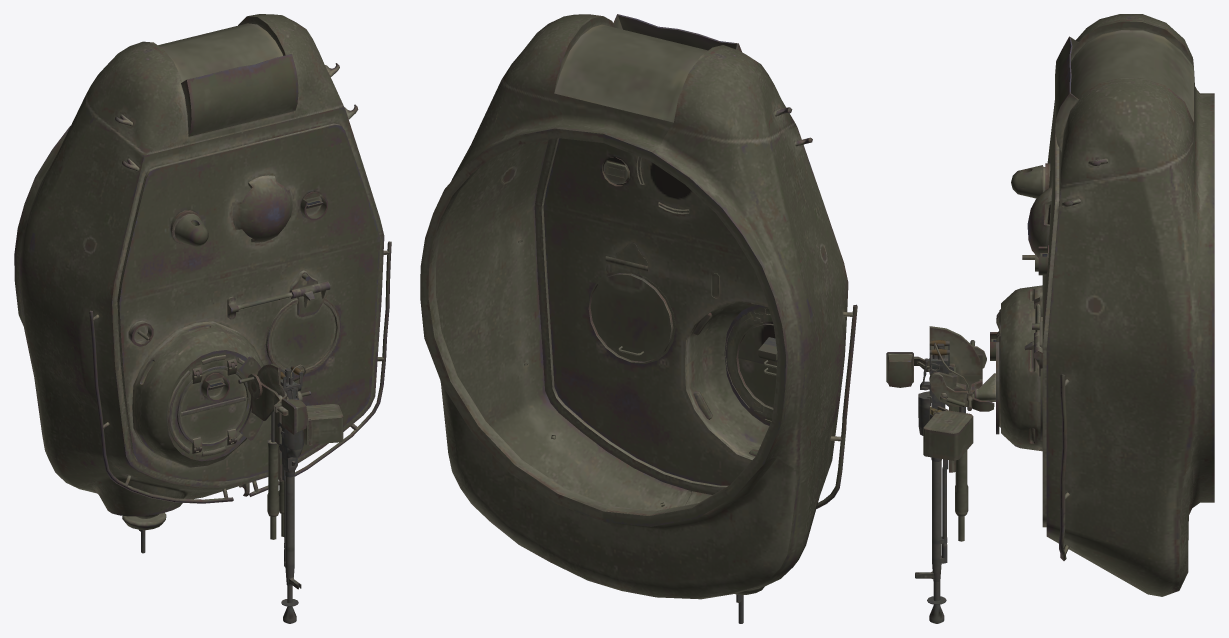
Rendered from Turret_01.glb.
3 renders of one model, left to right at view 1: azimuth 30°, elevation 25°; view 2: azimuth 150°, elevation 25°; view 3: azimuth 270°, elevation 25°, orthographic. The views are drawn at different scales.
Visible parts, largest first — view 1: set_0_group_0; view 2: set_0_group_0; view 3: set_0_group_0.
Boxes of the visible parts, bbox=[...] form: set_0_group_0: bbox=[14, 14, 391, 623]; set_0_group_0: bbox=[420, 14, 857, 623]; set_0_group_0: bbox=[886, 14, 1214, 623].
Size of the model in its own units: 2.21 by 3.37 by 1.73.
1 material, 1 textured.
